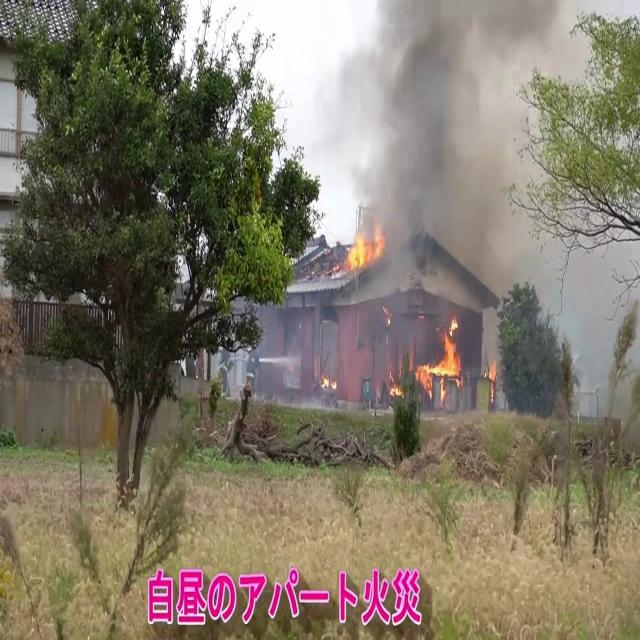Fire: (413, 313, 465, 396), (342, 222, 383, 278)
Smoke: (352, 0, 574, 354)
